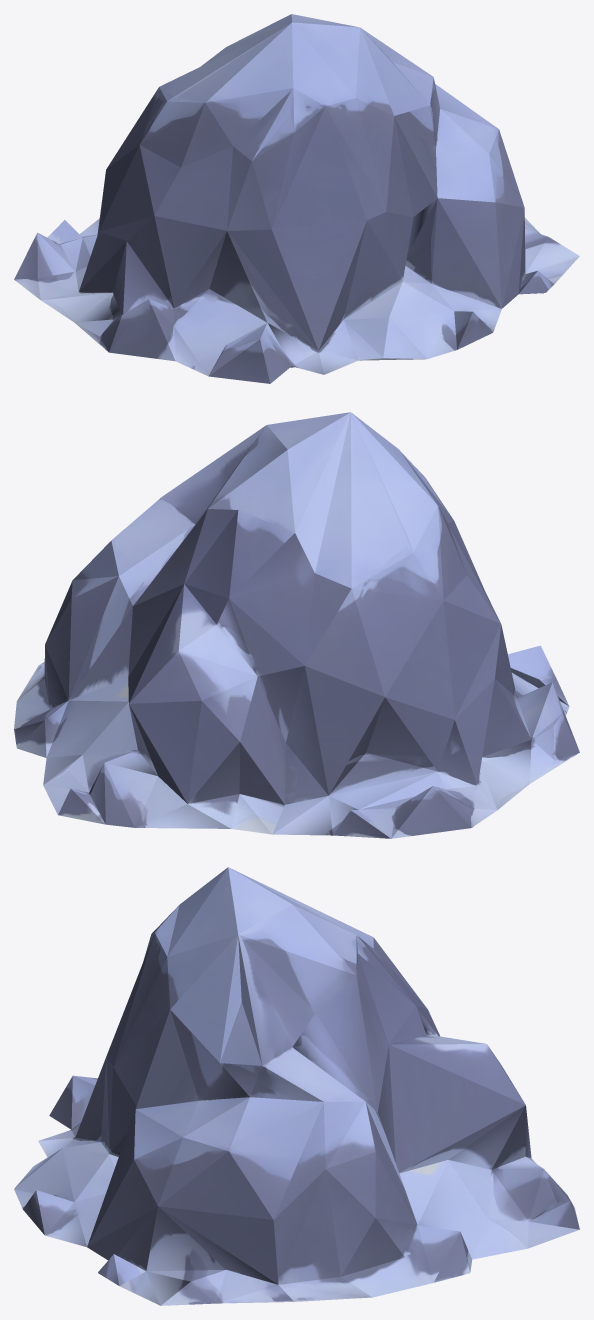
The model's file is rock02.glb.
The picture shows the model from 3 angles, top to bottom: view 1: azimuth 30°, elevation 25°; view 2: azimuth 150°, elevation 25°; view 3: azimuth 270°, elevation 25°; orthographic projection. The views are drawn at different scales.
Visible parts, largest first — view 1: Rock02; view 2: Rock02; view 3: Rock02.
Part boxes in pixels (x1=…): Rock02: x1=14, y1=14, x2=579, y2=383; Rock02: x1=14, y1=412, x2=579, y2=838; Rock02: x1=14, y1=867, x2=579, y2=1305.
Bounding box in the file's own units: 0.9909 × 0.5806 × 0.975.
Materials: 1 (1 with a texture image).
